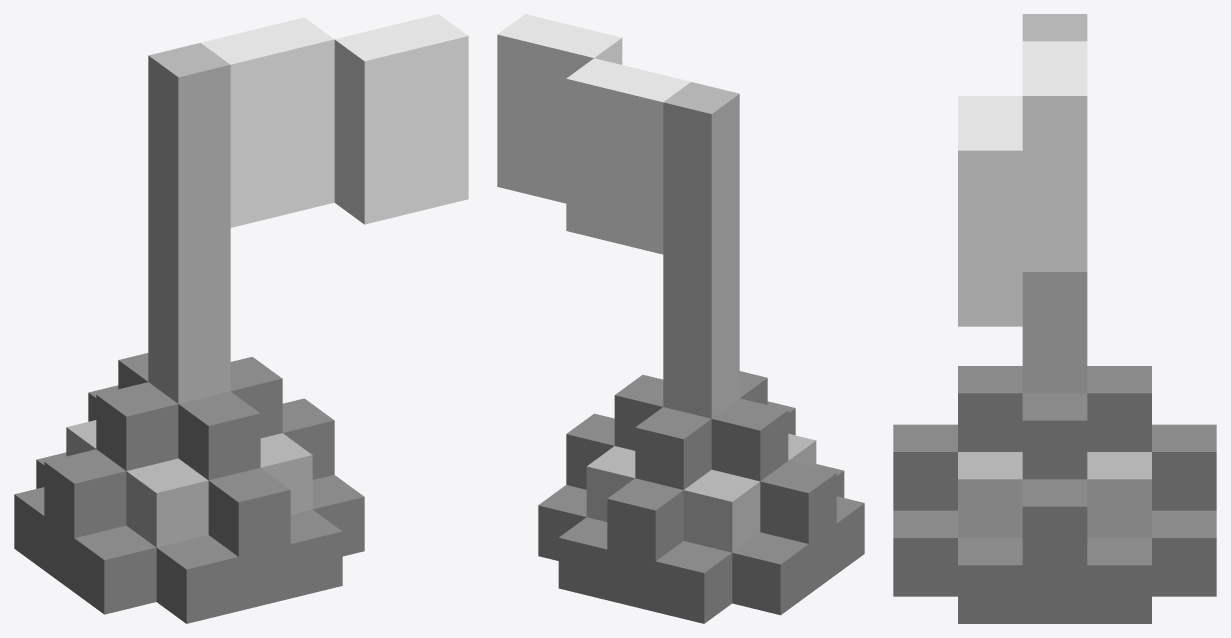
The model's file is tlc_settler.obj.
3 renders of one model, left to right at view 1: azimuth 30°, elevation 25°; view 2: azimuth 150°, elevation 25°; view 3: azimuth 270°, elevation 25°, orthographic. The views are drawn at different scales.
Size of the model in its own units: 0.7 by 0.9 by 0.5.
Materials: 1 (1 with a texture image).
